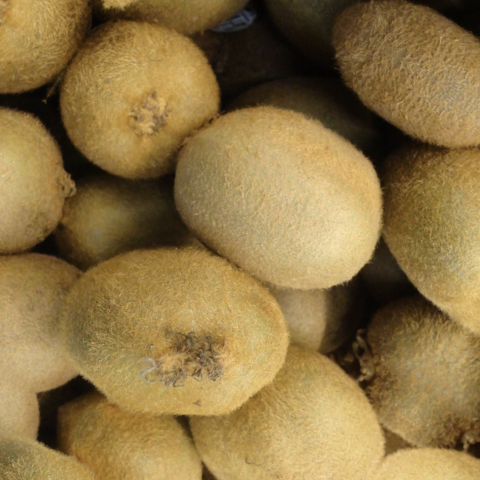kiwi: (116, 40, 429, 343), (18, 180, 331, 479), (29, 0, 262, 218), (165, 307, 417, 480)
